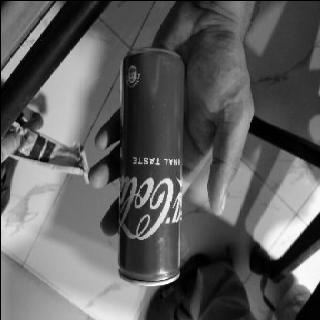alumunium_can: (116, 46, 184, 286)
